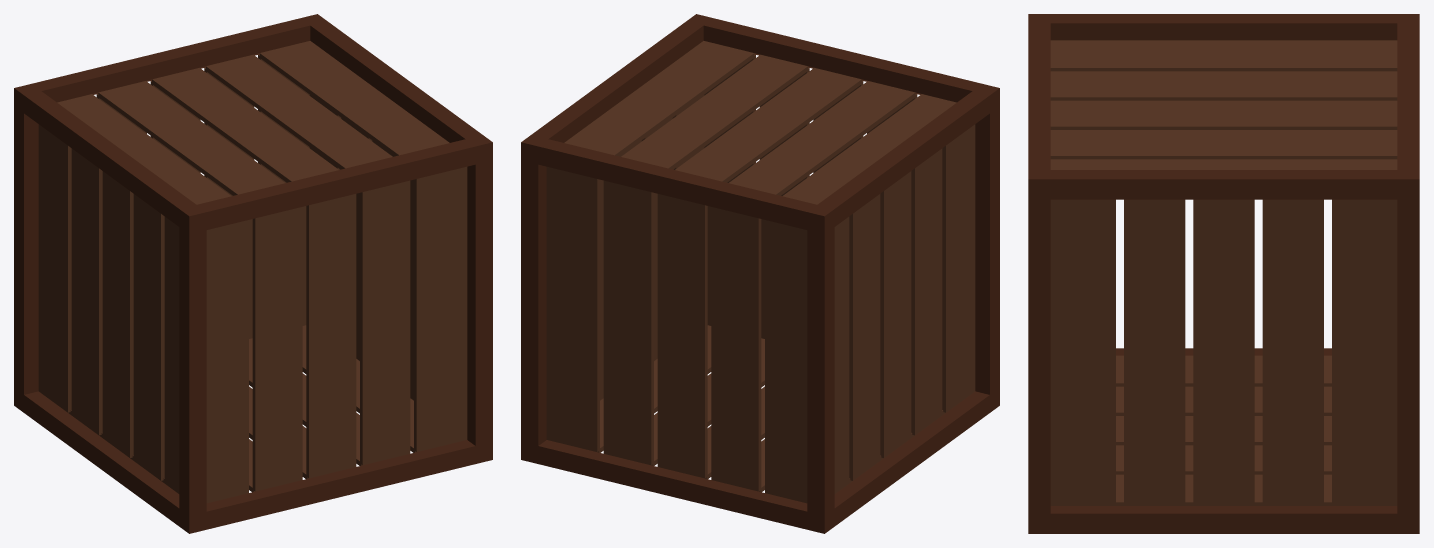
File: lowpoly_box.glb
3 renders of one model, left to right at view 1: azimuth 30°, elevation 25°; view 2: azimuth 150°, elevation 25°; view 3: azimuth 270°, elevation 25°, orthographic. The views are drawn at different scales.
Parts seen in each view (by area): view 1: Cube.001, Cube; view 2: Cube.001, Cube; view 3: Cube.001, Cube.
Boxes of the visible parts, x1,y1,x2,y2 form: Cube.001: (38,41,467,503); Cube: (14,14,492,533); Cube.001: (546,41,975,503); Cube: (521,14,999,533); Cube.001: (1050,40,1397,505); Cube: (1028,14,1419,533).
Size of the model in its own units: 5.4 by 5.4 by 5.4.
